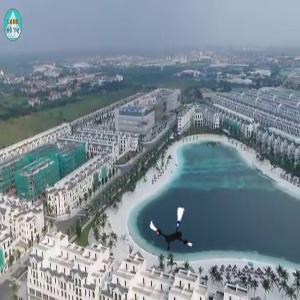drone: (149, 205, 201, 257)
